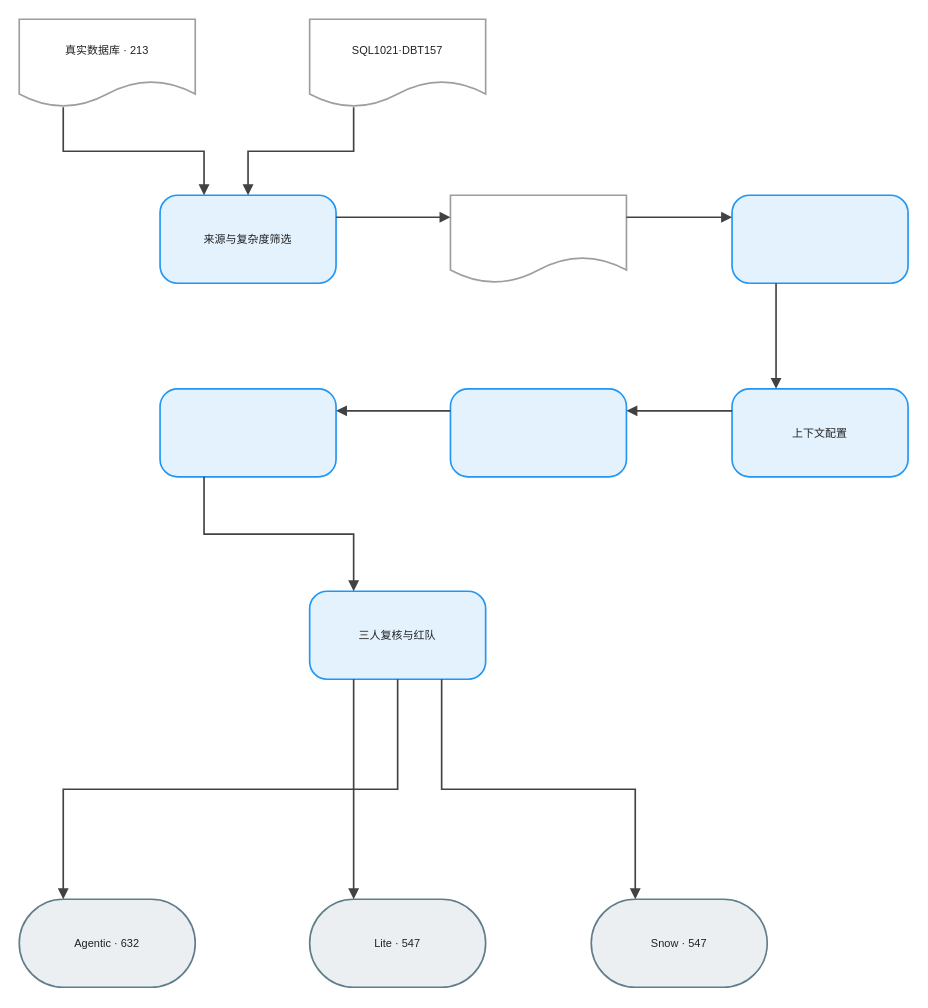
The diagram is 928 pixels wide and 1008 high, and some of its shapes have lost their labels. The shapes that lost their labels are listed below. From the top down, each one's box as (x1, y1, x2, y2) in pixels, then its label:
(449, 194, 627, 284): SQL547·DBT78
(731, 194, 908, 284): 两级改写并执行
(159, 388, 336, 477): 聚焦执行评测
(449, 388, 627, 477): 双版本说明
